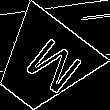M_SW: (9, 30, 78, 98)
